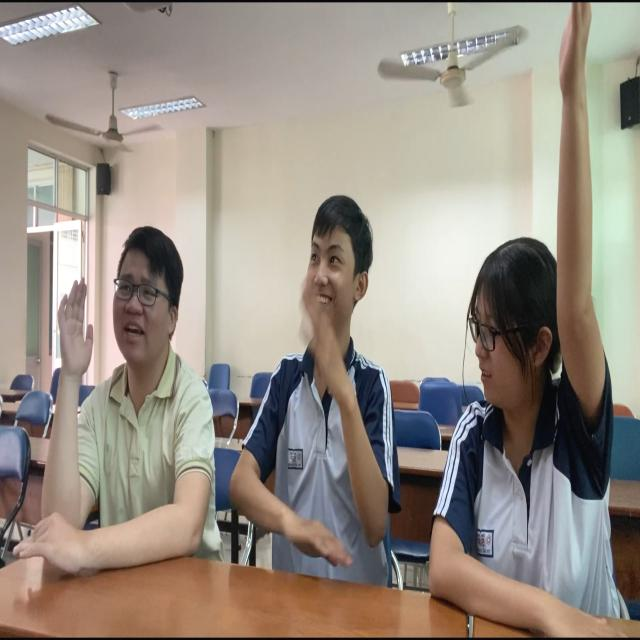raise_hand: (427, 1, 631, 629), (24, 235, 203, 583)
